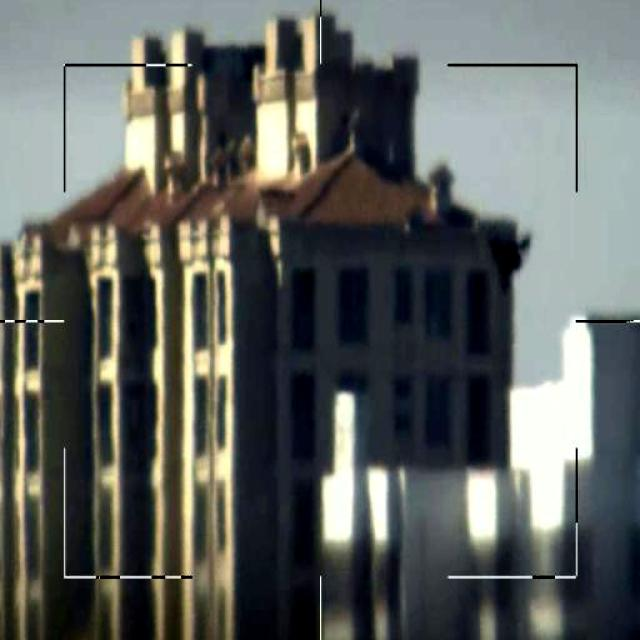bird: (482, 229, 531, 294)
